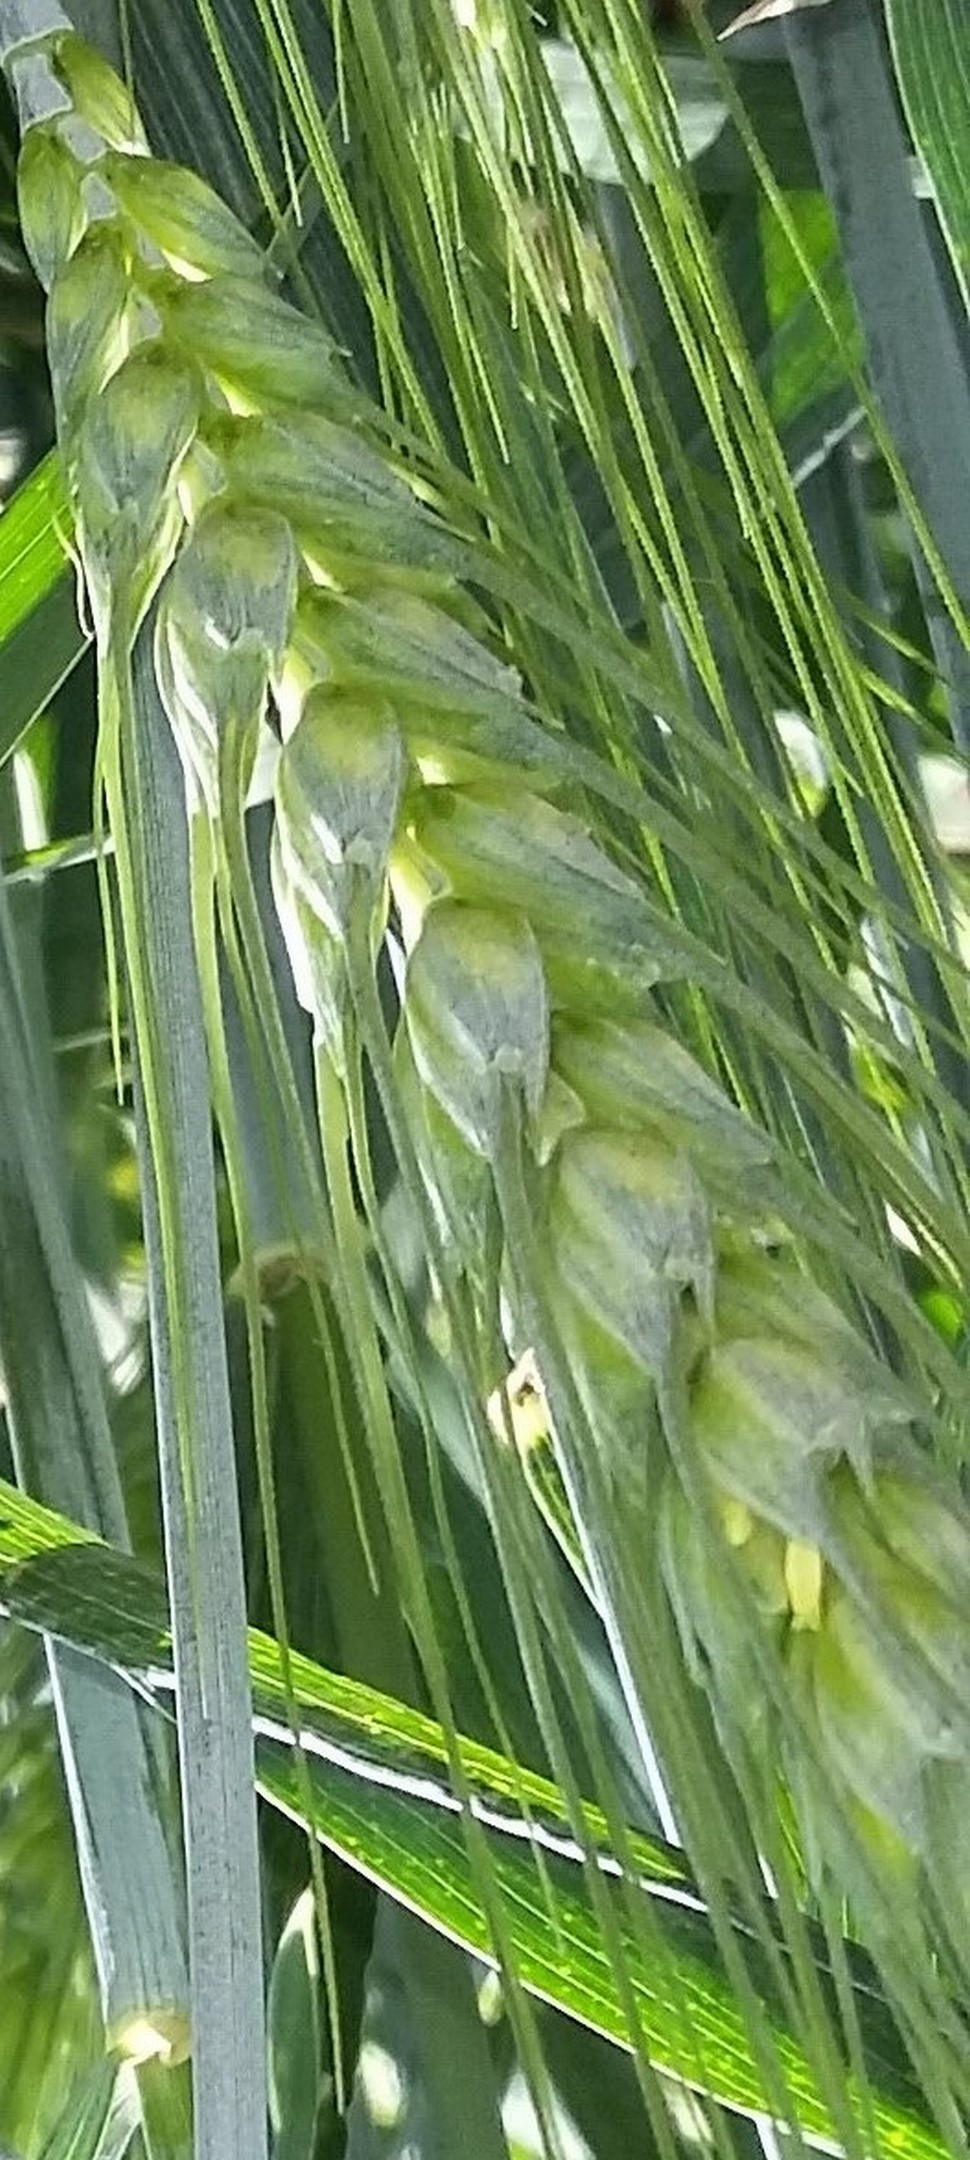Healthy Wheat: (30, 134, 970, 1800)
